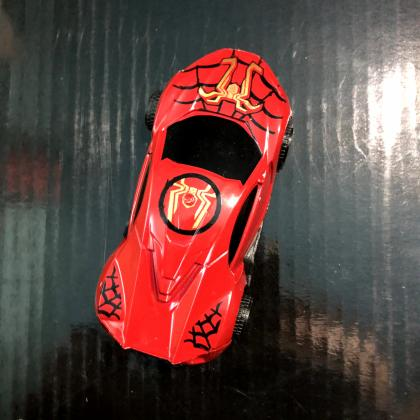Car: (94, 49, 293, 367)
